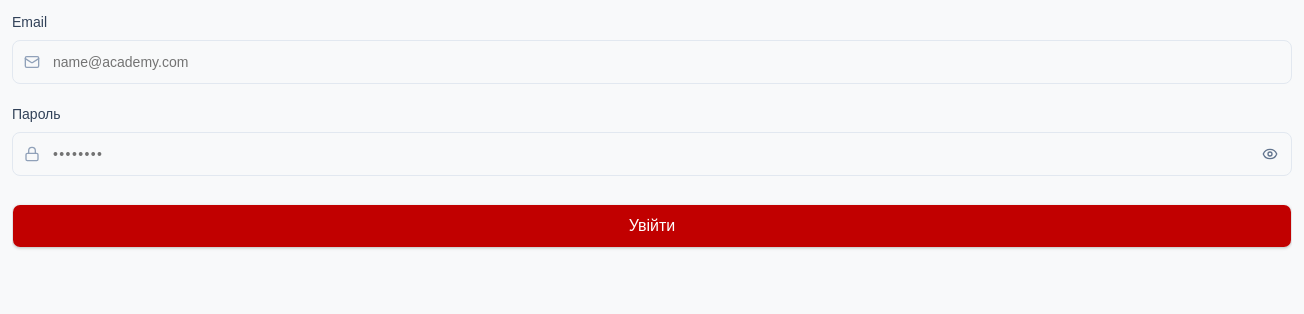
Test case: LoginForm › показує помилки валідації для порожньої форми
The width and height of the screenshot is (1304, 314).
Click the button "Увійти". click: (652, 226)
box: left=12, top=204, right=1292, bottom=248
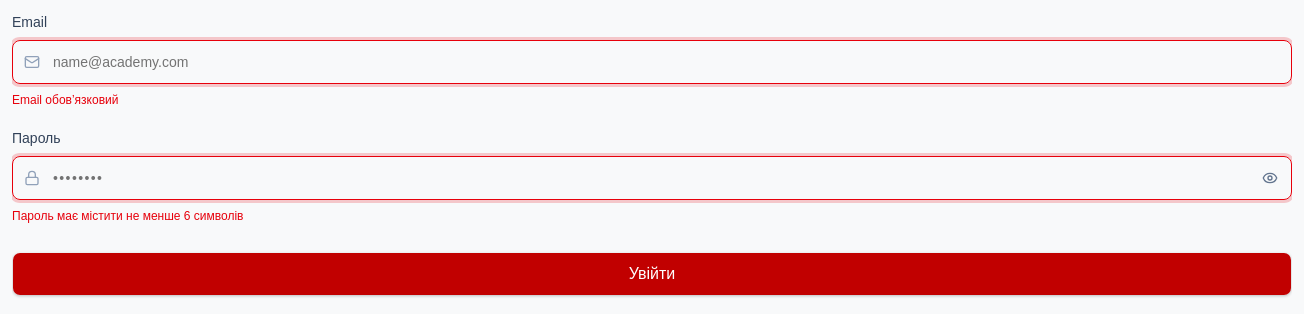
Expected: the text "Пароль має містити не менше 6 символів" is shown, left=12, top=209, right=244, bottom=223
